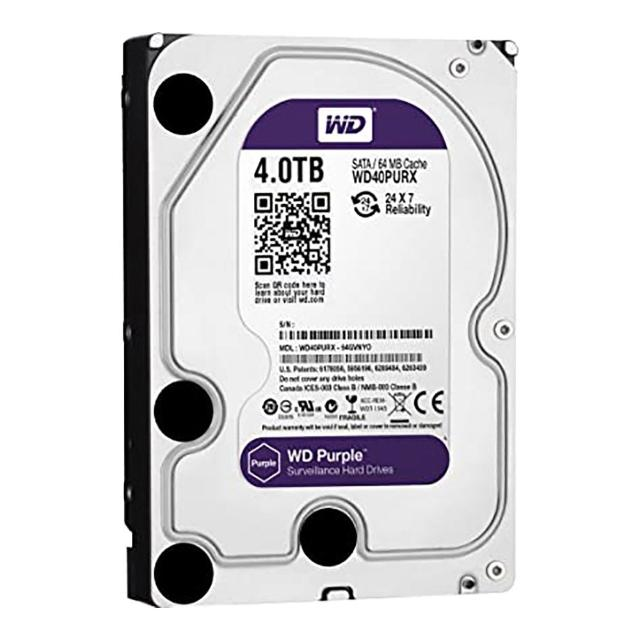HDD: (121, 31, 522, 611)
